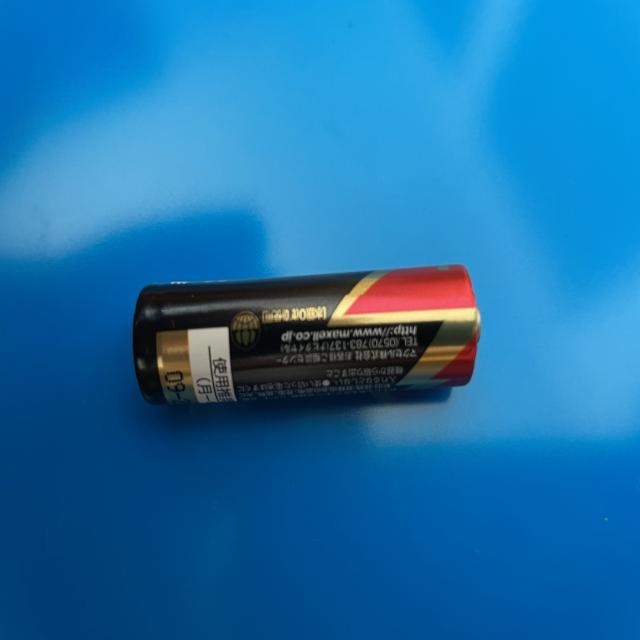hazardous waste: (126, 258, 484, 416)
